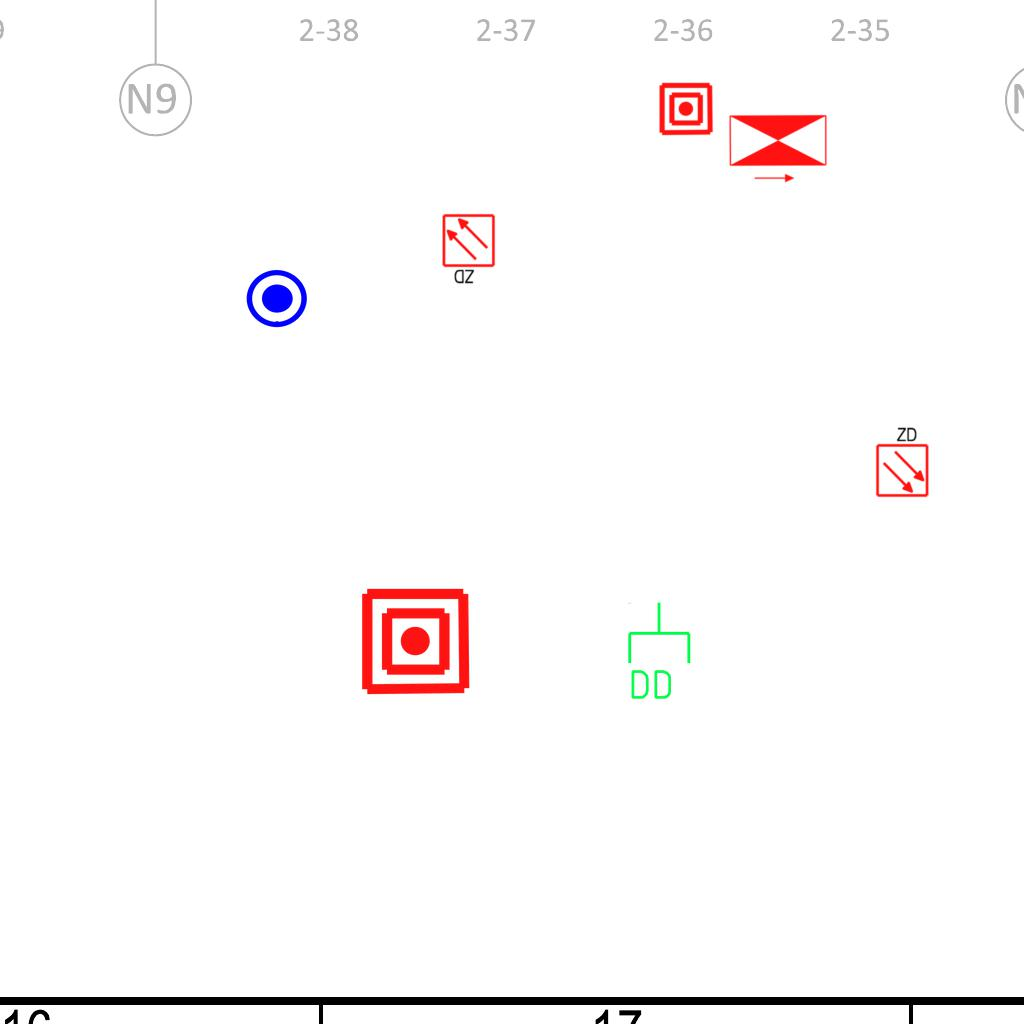Datenanschluss_zweifach: (624, 600, 693, 703)
Fluchtwegpiktogramm: (726, 112, 830, 185)
NAM-Nichtautomatischer_Melder: (359, 585, 472, 698), (658, 81, 714, 137)
Taster: (244, 268, 310, 334)
ZD_Melder_in_Zwischendecke_mit_Revisionsoeffnung_mind_40_x_40_cm: (441, 213, 498, 287), (873, 424, 930, 498)
